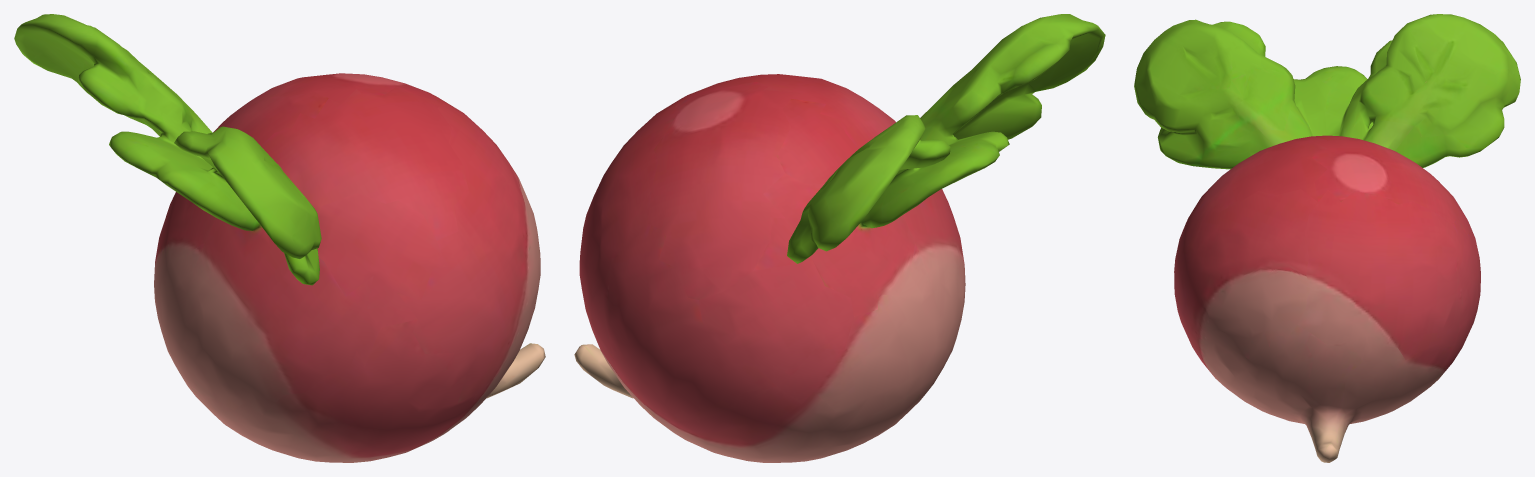
The model's file is radish.glb.
3 renders of one model, left to right at view 1: azimuth 30°, elevation 25°; view 2: azimuth 150°, elevation 25°; view 3: azimuth 270°, elevation 25°, orthographic. The views are drawn at different scales.
Parts seen in each view (by area): view 1: tripo_node_4f95eac1-8871-42a4-a955-47a2b80cbfb3; view 2: tripo_node_4f95eac1-8871-42a4-a955-47a2b80cbfb3; view 3: tripo_node_4f95eac1-8871-42a4-a955-47a2b80cbfb3.
Boxes of the visible parts, <box> form: tripo_node_4f95eac1-8871-42a4-a955-47a2b80cbfb3: <box>14,14,545,462</box>; tripo_node_4f95eac1-8871-42a4-a955-47a2b80cbfb3: <box>574,14,1105,462</box>; tripo_node_4f95eac1-8871-42a4-a955-47a2b80cbfb3: <box>1134,14,1520,462</box>.
Size of the model in its own units: 0.9704 by 0.9186 by 1.
Materials: 1 (1 with a texture image).
